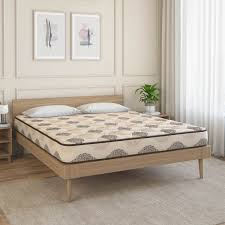bed-matress: (10, 105, 208, 164)
